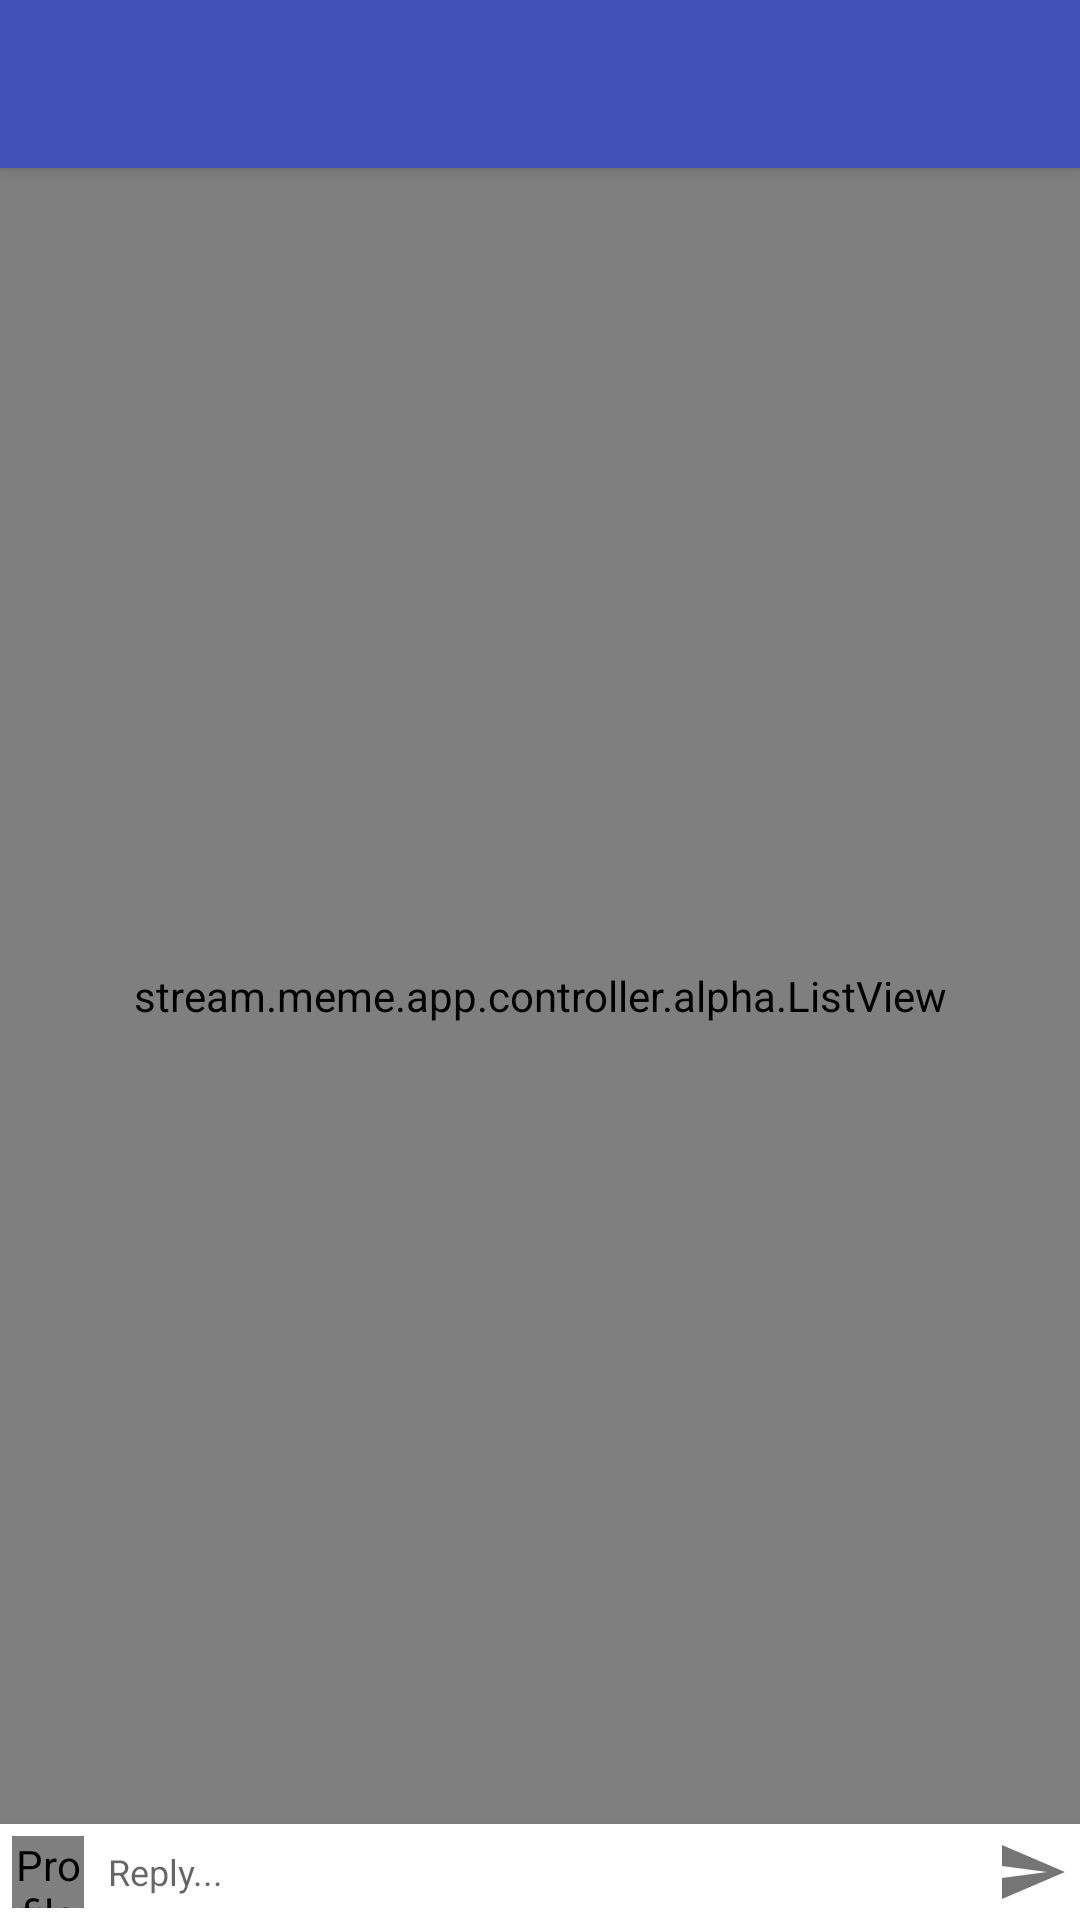

Named icons in this screenshot (1080×1920) and their bounding boxes, (x1, y1, x2, y2):
Send: (1002, 1845, 1065, 1899)
